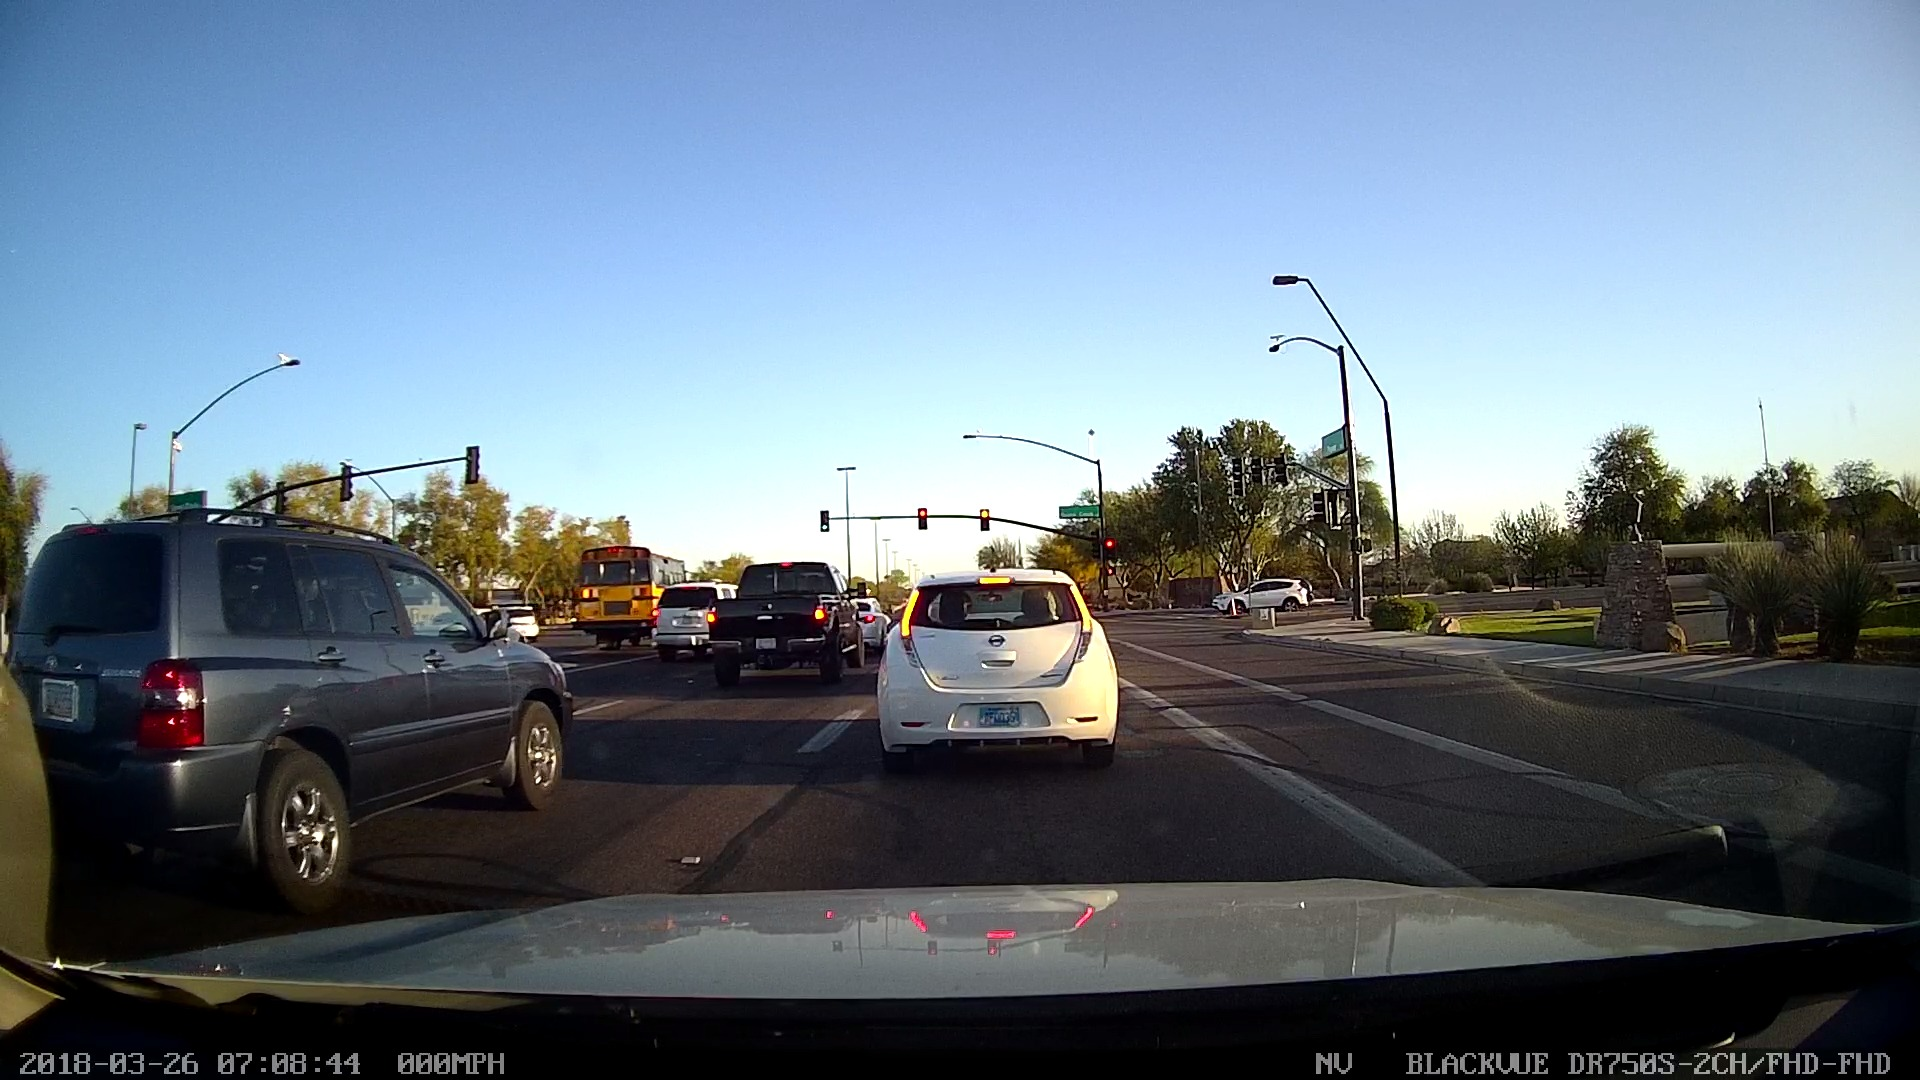vehicle: (11, 465, 580, 953), (861, 560, 1134, 771), (686, 538, 885, 699), (567, 522, 708, 651), (1205, 568, 1315, 620), (951, 695, 1040, 742)
